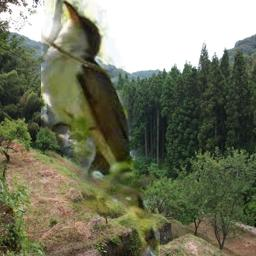Cuckoo: (41, 0, 160, 256)
